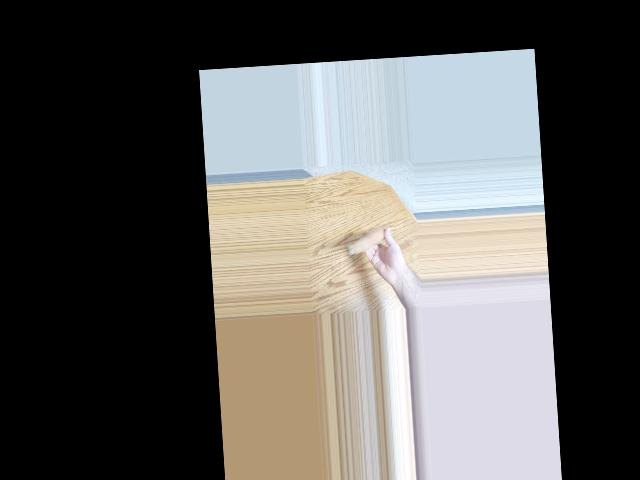sweet_potato: (346, 226, 390, 257)
